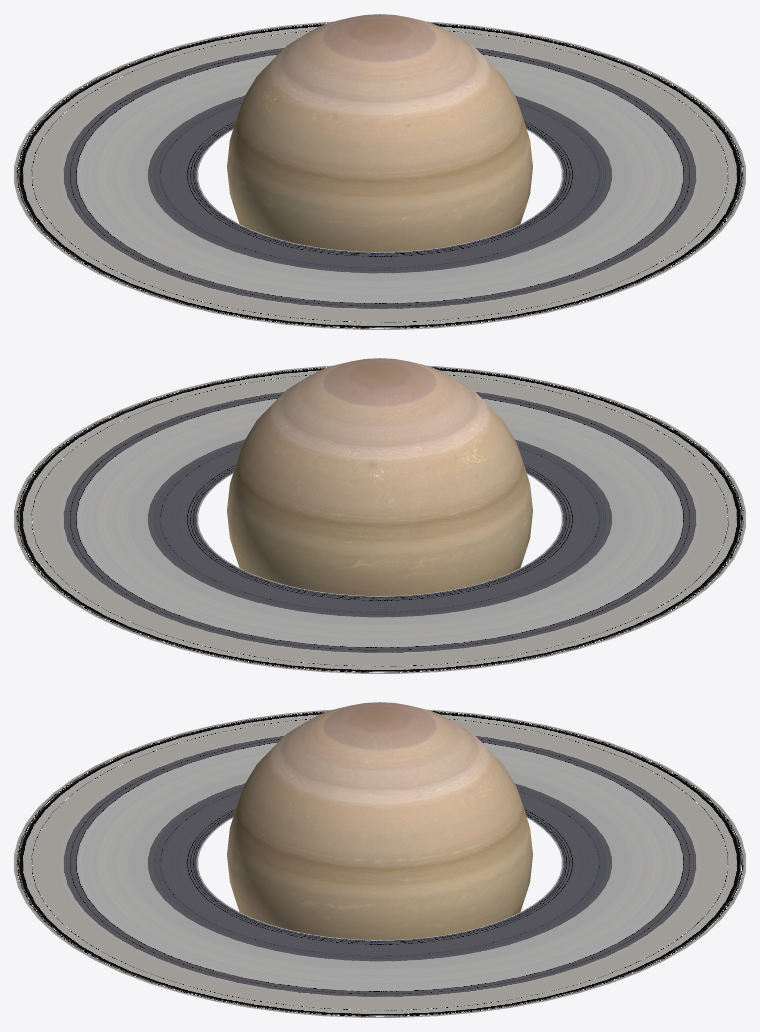
The model's file is Saturn.dae.
3 views of the same model, one above another, from view 1: azimuth 30°, elevation 25°; view 2: azimuth 150°, elevation 25°; view 3: azimuth 270°, elevation 25° (orthographic).
Visible parts, largest first — view 1: Component_1 (×55), Saturn; view 2: Component_1 (×55), Saturn; view 3: Component_1 (×55), Saturn.
Boxes of the visible parts, bbox=[...] form: Component_1 (×55): bbox=[14, 25, 745, 329]; Saturn: bbox=[227, 14, 532, 251]; Component_1 (×55): bbox=[14, 369, 745, 673]; Saturn: bbox=[227, 358, 532, 595]; Component_1 (×55): bbox=[14, 713, 745, 1017]; Saturn: bbox=[227, 702, 532, 939].
Bounding box in the file's own units: 3077 × 3077 × 1287.
